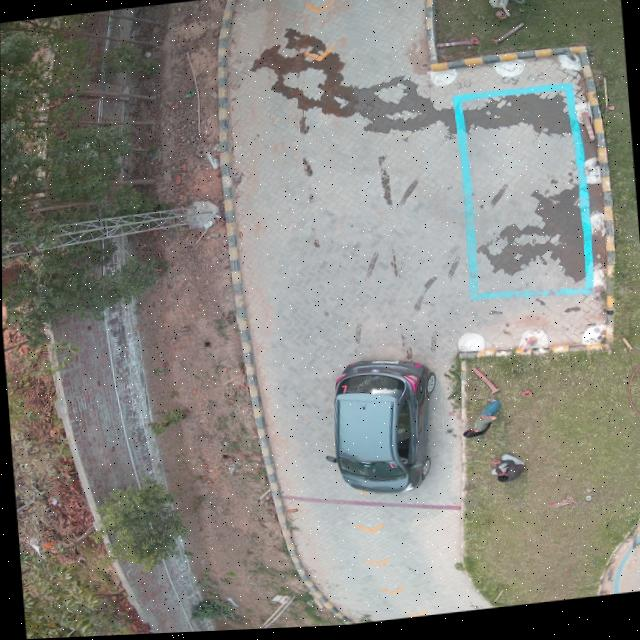car: (330, 361, 433, 497)
